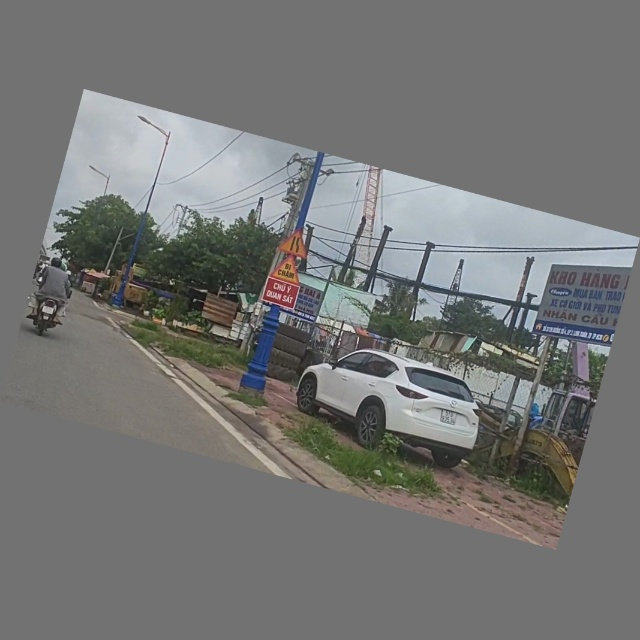W.203c: (277, 226, 315, 261)
W.245a: (269, 253, 311, 288)
